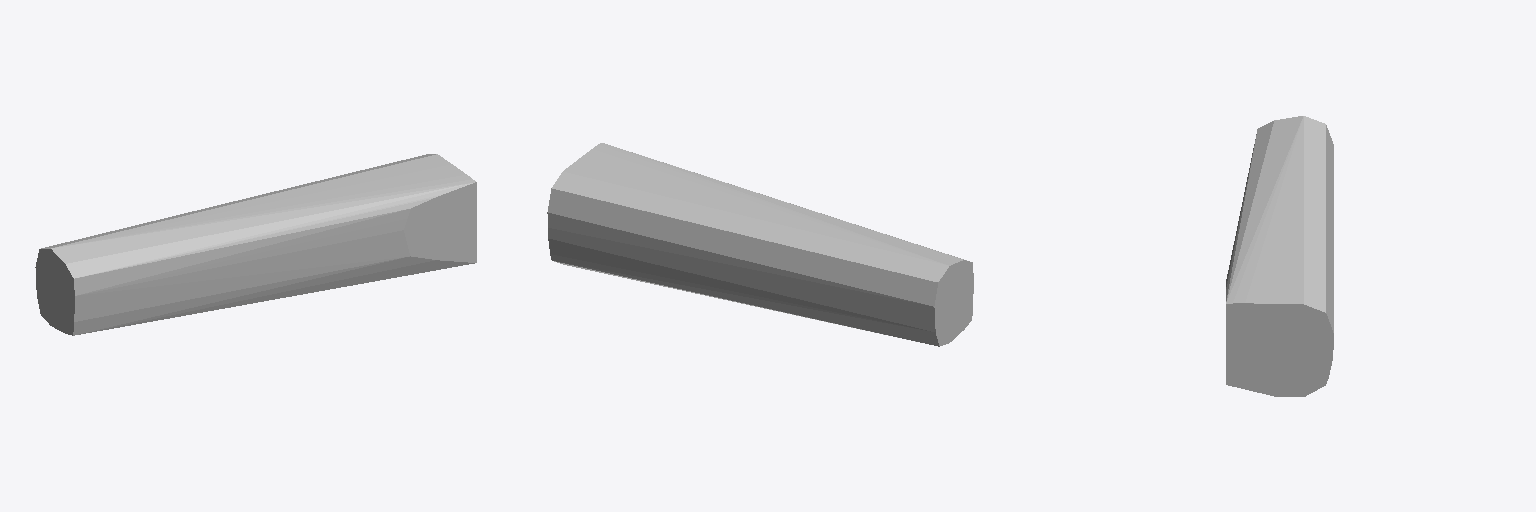
File: table_collision_26.obj
3 views of the same model, side by side, from view 1: azimuth 30°, elevation 25°; view 2: azimuth 150°, elevation 25°; view 3: azimuth 270°, elevation 25° (orthographic).
Bounding box in the file's own units: 0.2491 × 0.0579 × 0.0603.